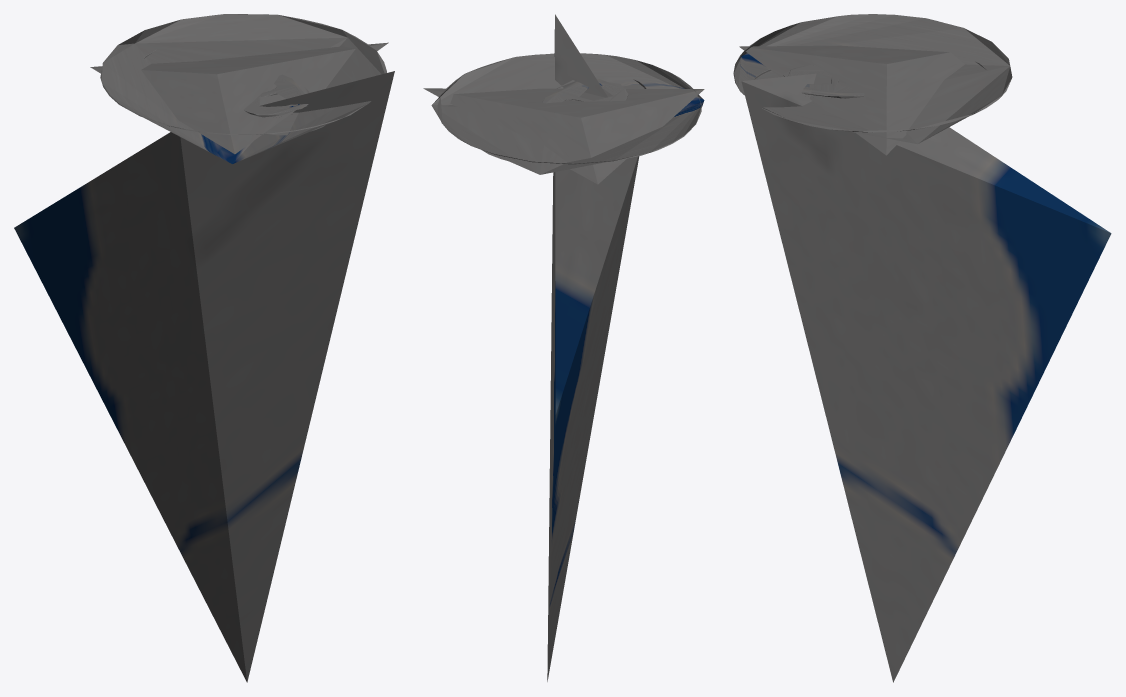
Rendered from food_beverage_can_m01.glb.
3 views of the same model, side by side, from view 1: azimuth 30°, elevation 25°; view 2: azimuth 150°, elevation 25°; view 3: azimuth 270°, elevation 25° (orthographic). The views are drawn at different scales.
Parts seen in each view (by area): view 1: geometry_0; view 2: geometry_0; view 3: geometry_0.
Boxes of the visible parts, bbox=[...] form: geometry_0: bbox=[14, 14, 394, 682]; geometry_0: bbox=[423, 14, 704, 681]; geometry_0: bbox=[733, 14, 1111, 682].
Bounding box in the file's own units: 0.1864 × 0.42 × 0.2267.
1 material, 1 textured.
